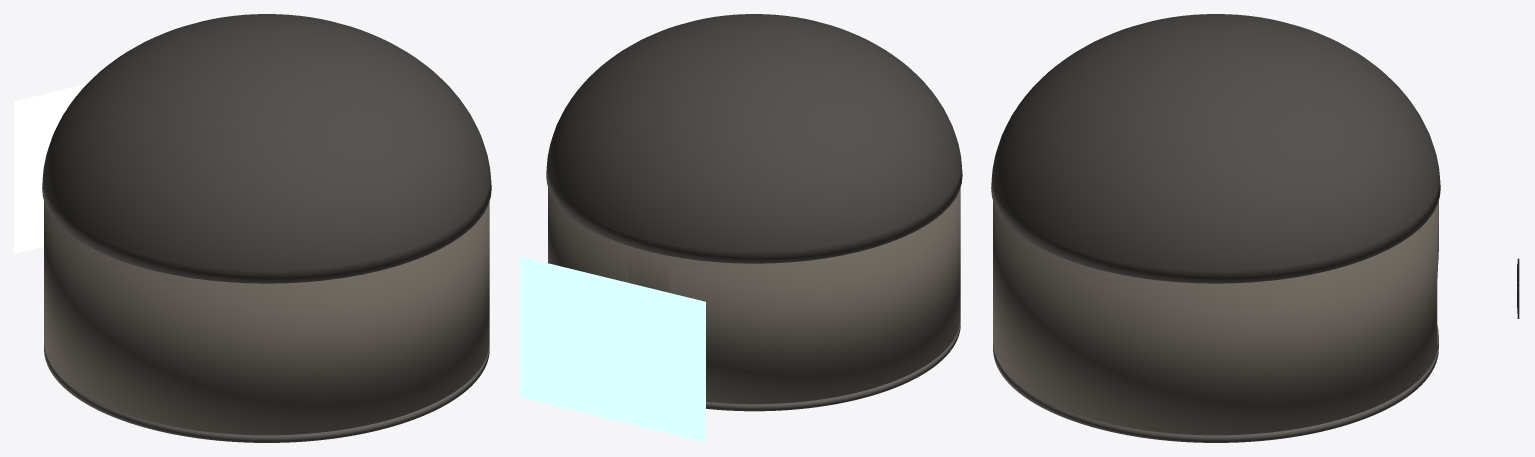
Rendered from lore_chamber.glb.
3 renders of one model, left to right at view 1: azimuth 30°, elevation 25°; view 2: azimuth 150°, elevation 25°; view 3: azimuth 270°, elevation 25°, orthographic. The views are drawn at different scales.
Visible parts, largest first — view 1: LC_HemisphericalDome, LC_SolidRingWall_21m, LC_CityGlowBackdrop_Window, LC_FloorSlab_21m; view 2: LC_HemisphericalDome, LC_SolidRingWall_21m, LC_CityGlowBackdrop_Window, LC_FloorSlab_21m; view 3: LC_HemisphericalDome, LC_SolidRingWall_21m, LC_FloorSlab_21m.
Part boxes in pixels (bbox=[...]): LC_HemisphericalDome: bbox=[42, 14, 491, 283]; LC_SolidRingWall_21m: bbox=[44, 201, 489, 435]; LC_CityGlowBackdrop_Window: bbox=[14, 84, 86, 253]; LC_FloorSlab_21m: bbox=[44, 345, 489, 442]; LC_HemisphericalDome: bbox=[546, 14, 962, 263]; LC_SolidRingWall_21m: bbox=[548, 187, 960, 404]; LC_CityGlowBackdrop_Window: bbox=[520, 256, 705, 442]; LC_FloorSlab_21m: bbox=[706, 322, 960, 411]; LC_HemisphericalDome: bbox=[991, 14, 1440, 283]; LC_SolidRingWall_21m: bbox=[993, 200, 1438, 435]; LC_FloorSlab_21m: bbox=[993, 342, 1438, 442].
Size of what is drawn, in the model's own units: 21.38 by 16.1 by 25.19.
